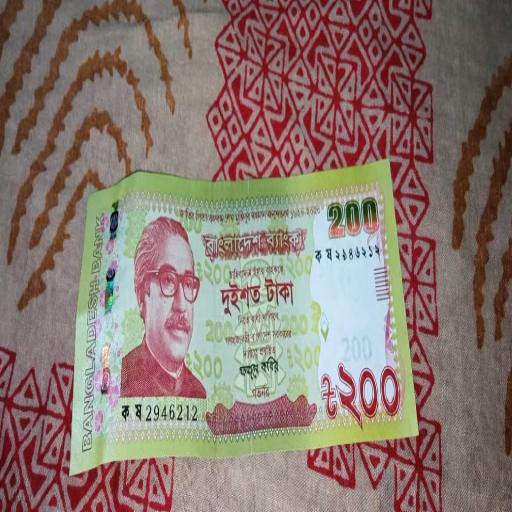200taka: (67, 160, 418, 474)
